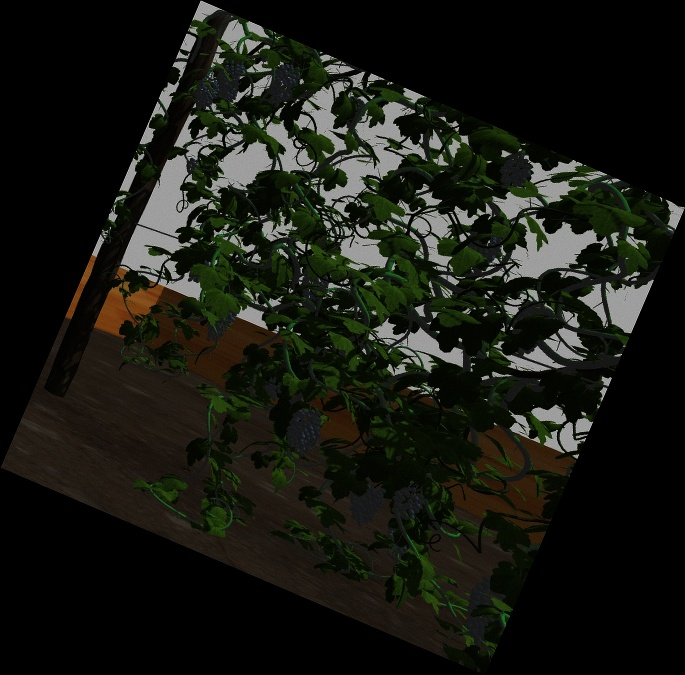grape: (465, 578, 499, 642), (287, 409, 318, 459), (349, 483, 383, 526), (271, 63, 297, 107), (216, 60, 242, 100), (392, 486, 423, 519), (501, 155, 531, 189), (208, 310, 231, 343), (195, 79, 215, 109)
